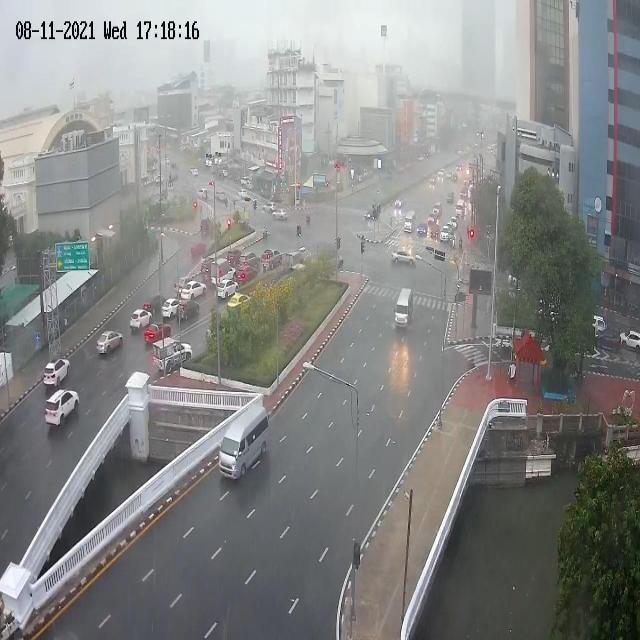Car: (44, 388, 80, 428), (44, 357, 70, 389), (595, 326, 621, 352), (96, 330, 122, 356), (144, 321, 172, 343), (129, 308, 153, 332), (176, 298, 200, 322), (142, 294, 168, 316), (180, 280, 207, 300), (216, 279, 239, 300), (161, 298, 182, 320), (391, 248, 416, 266), (227, 292, 252, 310), (619, 328, 640, 349), (236, 264, 258, 284), (238, 251, 260, 271), (217, 268, 237, 287), (174, 277, 192, 295), (190, 243, 206, 257), (200, 218, 213, 235), (272, 208, 288, 221), (262, 201, 276, 214), (440, 225, 450, 243), (395, 193, 407, 208), (416, 222, 428, 236), (430, 223, 440, 239), (432, 201, 442, 216), (196, 188, 208, 200), (449, 216, 458, 230), (428, 214, 436, 227), (238, 188, 247, 199), (215, 190, 224, 200), (245, 181, 254, 191), (240, 177, 250, 184), (452, 172, 458, 182), (438, 168, 444, 178), (192, 169, 199, 177), (222, 169, 228, 178), (429, 176, 436, 183), (166, 158, 171, 165)
Cycle: (459, 239, 463, 250), (452, 238, 456, 248)
Truck: (152, 336, 193, 374), (210, 258, 236, 287), (261, 248, 283, 270), (286, 250, 304, 268), (456, 198, 466, 216)
Van: (218, 404, 269, 480), (395, 287, 414, 330), (404, 210, 416, 233)
